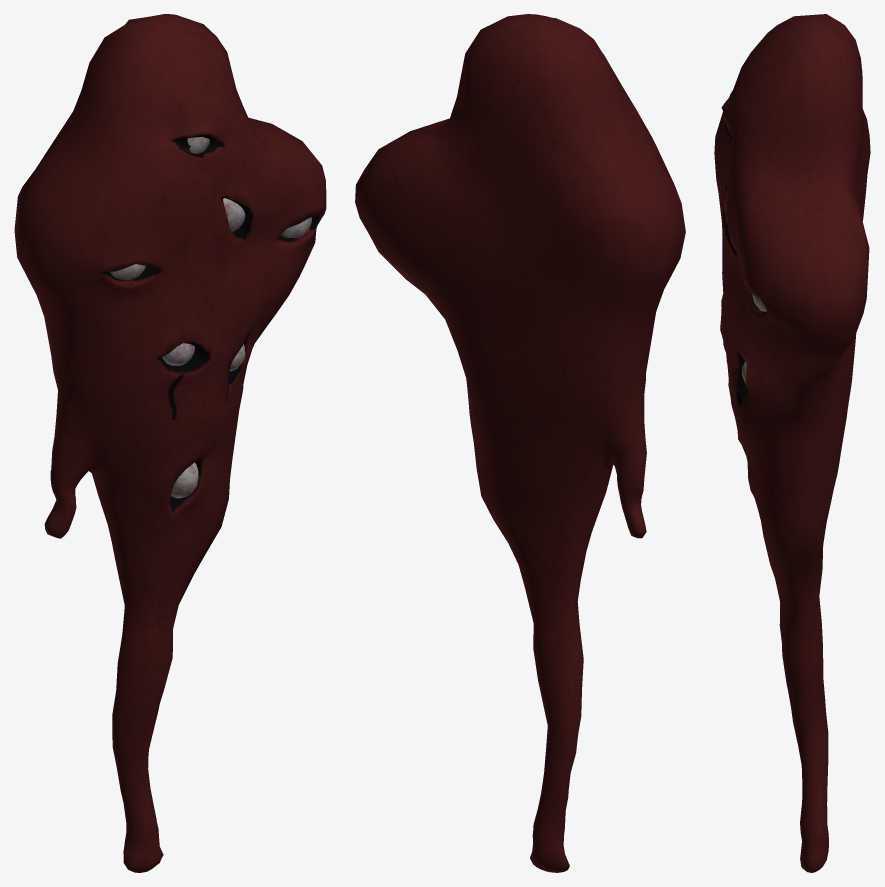
File: panico escenico4.fbx
The picture shows the model from 3 angles, left to right: view 1: azimuth 30°, elevation 25°; view 2: azimuth 150°, elevation 25°; view 3: azimuth 270°, elevation 25°; orthographic projection.
Parts seen in each view (by area): view 1: panico escemico, ojos panico escenico; view 2: panico escemico; view 3: panico escemico.
Boxes of the visible parts, x1=… form: panico escemico: x1=14, y1=14, x2=326, y2=872; ojos panico escenico: x1=110, y1=137, x2=311, y2=498; panico escemico: x1=355, y1=14, x2=685, y2=872; panico escemico: x1=714, y1=14, x2=870, y2=872.
Size of the model in its own units: 3.16 by 8.39 by 1.39.
